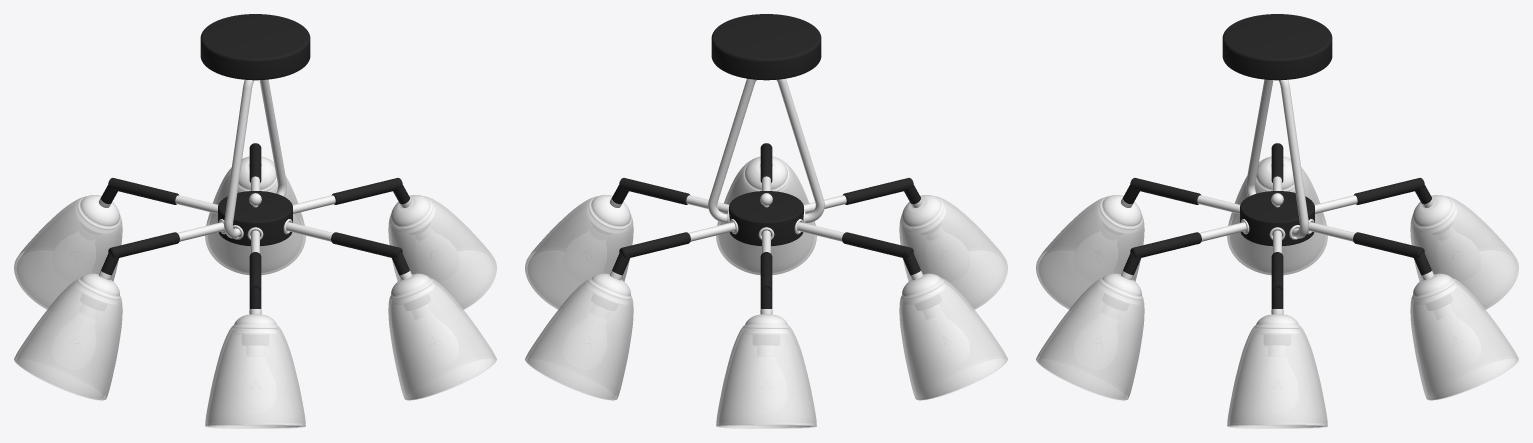
3 views of the same model, side by side, from view 1: azimuth 30°, elevation 25°; view 2: azimuth 150°, elevation 25°; view 3: azimuth 270°, elevation 25° (orthographic).
Parts seen in each view (by area): view 1: glass, black, chrome, glass_edge; view 2: glass, black, chrome, glass_edge; view 3: glass, black, chrome, glass_edge.
Part boxes in pixels (box(x1,y1,x2,y2)): glass: box(14, 157, 496, 427); black: box(101, 14, 409, 308); chrome: box(77, 79, 433, 329); glass_edge: box(15, 236, 495, 428); glass: box(525, 157, 1007, 427); black: box(612, 14, 920, 308); chrome: box(588, 78, 944, 329); glass_edge: box(526, 236, 1006, 428); glass: box(1036, 157, 1518, 427); black: box(1123, 14, 1431, 308); chrome: box(1099, 79, 1455, 329); glass_edge: box(1037, 236, 1517, 428).
Size of the model in its own units: 0.59 by 0.3804 by 0.5272.
8 materials, 8 textured.
